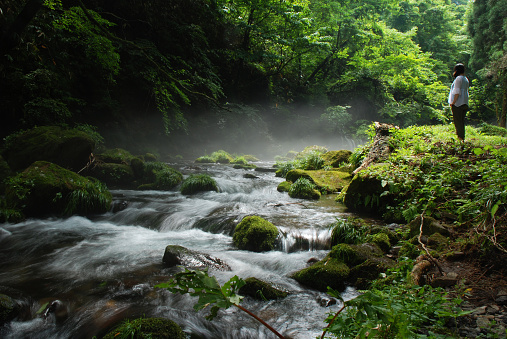em pe: (443, 61, 469, 134)
